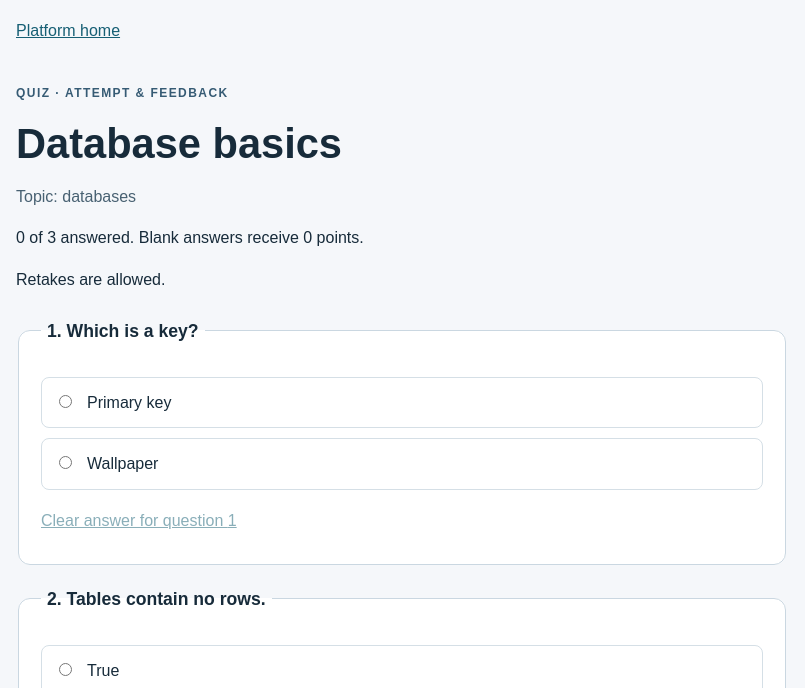
Test: clear answer returns to unanswered and all blanks can be submitted
The image size is (805, 688).
Expected: the heading "Database basics" is shown, [16,120,342,167]
Click the radio button labelled "Primary key" at point(66, 401), box [59,395,72,408]
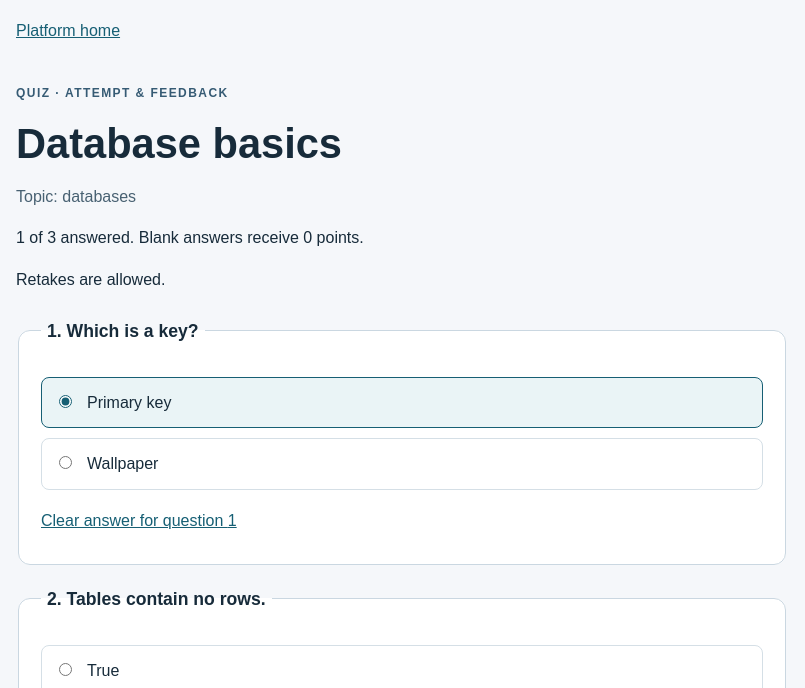
Click the button "Clear answer for question 1" at point(139, 521), box [41,500,237,542]
(page scrolled)
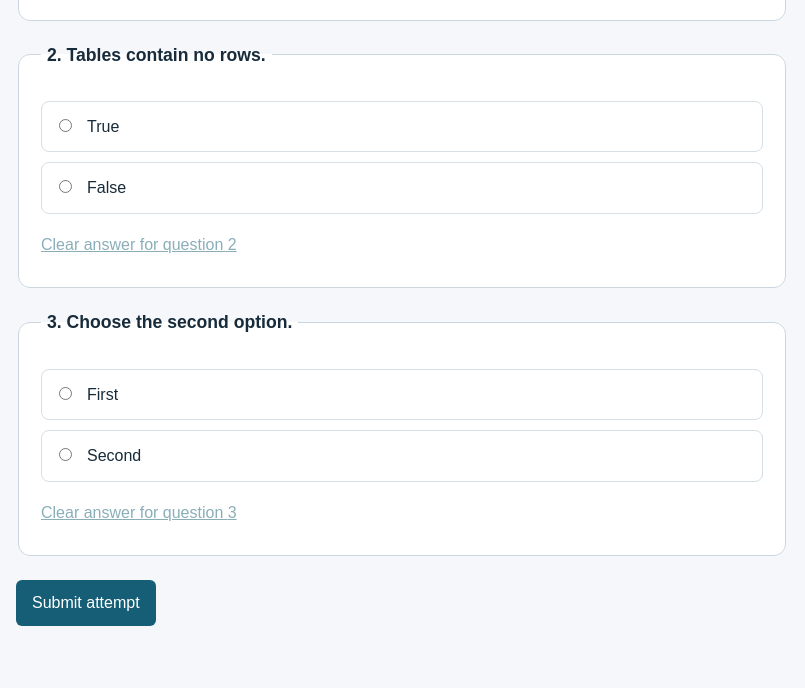
Click the button "Submit attempt" at point(86, 603), box [16,580,156,626]
(page scrolled)
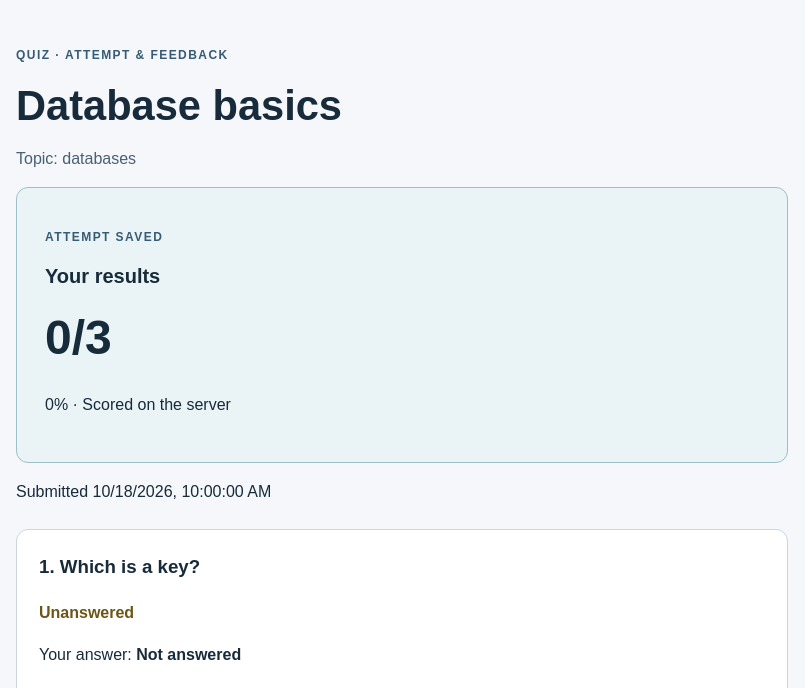
Result: the text "0/3" is shown at [45,311,112,364]
Result: the text "Unanswered" is shown 3 times
